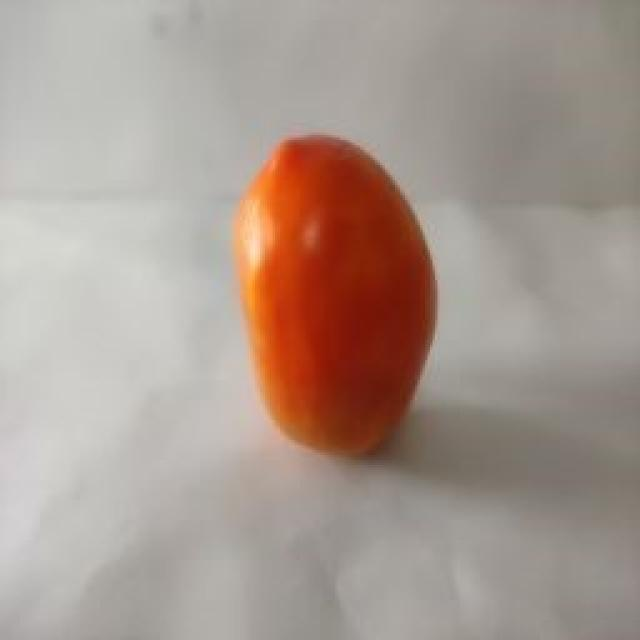Ripe: (225, 134, 443, 459)
